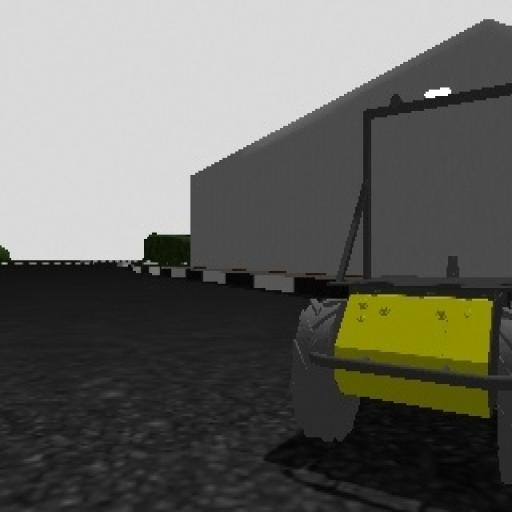huskya200: (305, 84, 512, 496)
